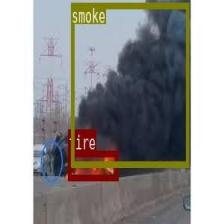fire: (68, 150, 118, 180)
smoke: (70, 3, 189, 166)
